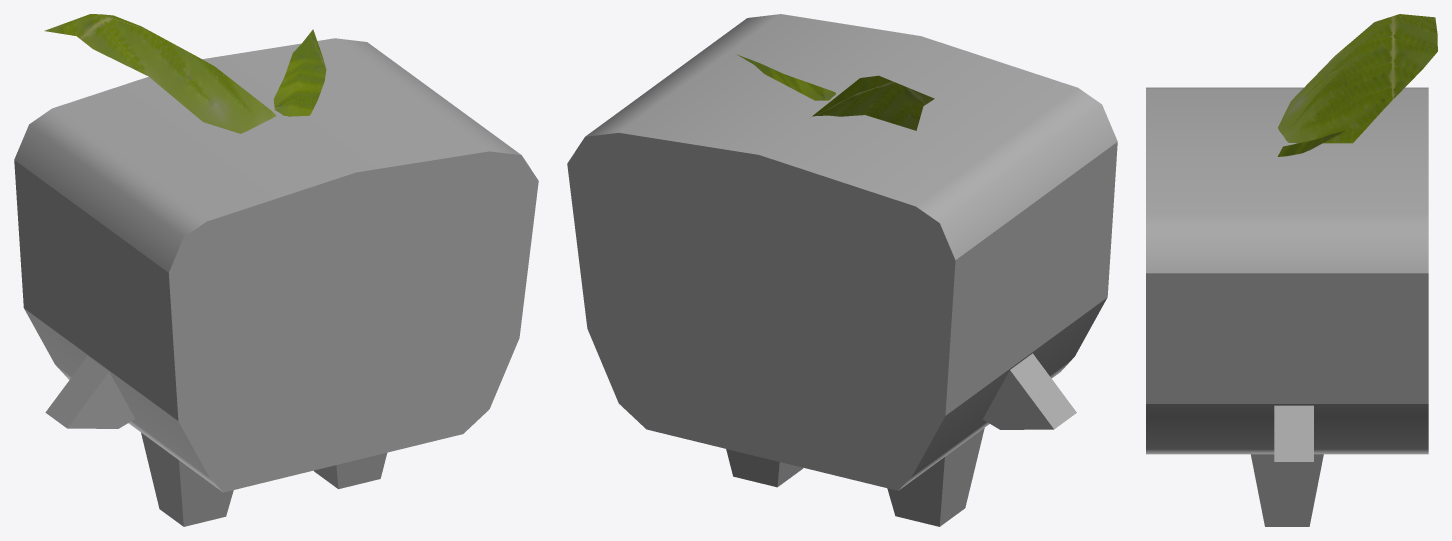
Rendered from Hijo_Char_2.fbx.
3 renders of one model, left to right at view 1: azimuth 30°, elevation 25°; view 2: azimuth 150°, elevation 25°; view 3: azimuth 270°, elevation 25°, orthographic. The views are drawn at different scales.
Visible parts, largest first — view 1: Hijo_Char_2; view 2: Hijo_Char_2; view 3: Hijo_Char_2.
Boxes of the visible parts, x1,y1,x2,y2 form: Hijo_Char_2: (14,14,538,526); Hijo_Char_2: (567,14,1117,526); Hijo_Char_2: (1146,14,1437,526).
Bounding box in the file's own units: 28.6 × 29.73 × 18.67.
